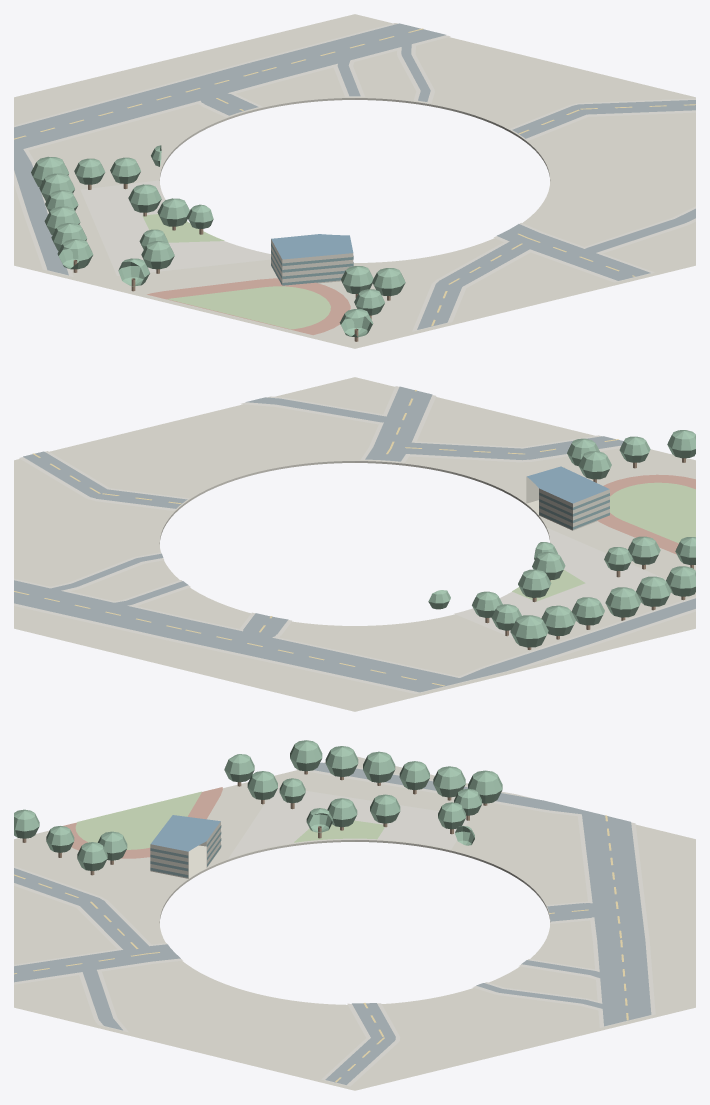
File: surround-X1.glb
3 renders of one model, top to bottom at view 1: azimuth 30°, elevation 25°; view 2: azimuth 150°, elevation 25°; view 3: azimuth 270°, elevation 25°, orthographic.
Parts seen in each view (by area): view 1: X1_ground, X1_road, X1_paving, X1_leafdark, X1_lawn, X1_trackred, X1_solar, X1_ivory, X1_glass, X1_yellow; view 2: X1_ground, X1_road, X1_paving, X1_leafdark, X1_lawn, X1_ivory, X1_trackred, X1_solar, X1_glass, X1_yellow; view 3: X1_ground, X1_road, X1_paving, X1_leafdark, X1_lawn, X1_solar, X1_ivory, X1_trackred, X1_yellow, X1_glass.
Part boxes in pixels (bbox=[...]): X1_ground: bbox=[14, 14, 695, 348]; X1_road: bbox=[14, 23, 695, 329]; X1_paving: bbox=[14, 23, 695, 331]; X1_leafdark: bbox=[31, 145, 405, 337]; X1_lawn: bbox=[142, 214, 330, 329]; X1_trackred: bbox=[147, 278, 350, 335]; X1_solar: bbox=[271, 234, 353, 259]; X1_ivory: bbox=[271, 239, 353, 284]; X1_glass: bbox=[271, 243, 353, 285]; X1_yellow: bbox=[14, 28, 695, 326]; X1_ground: bbox=[14, 377, 695, 711]; X1_road: bbox=[14, 386, 695, 692]; X1_paving: bbox=[14, 386, 695, 693]; X1_leafdark: bbox=[428, 430, 695, 647]; X1_lawn: bbox=[512, 482, 695, 601]; X1_ivory: bbox=[526, 476, 609, 530]; X1_trackred: bbox=[597, 474, 695, 554]; X1_solar: bbox=[527, 466, 609, 503]; X1_glass: bbox=[539, 492, 609, 529]; X1_yellow: bbox=[14, 390, 618, 686]; X1_ground: bbox=[14, 756, 695, 1090]; X1_road: bbox=[14, 762, 651, 1084]; X1_paving: bbox=[14, 762, 655, 1086]; X1_leafdark: bbox=[14, 740, 502, 871]; X1_lawn: bbox=[75, 791, 384, 849]; X1_solar: bbox=[151, 815, 220, 851]; X1_ivory: bbox=[150, 821, 220, 878]; X1_trackred: bbox=[63, 787, 222, 858]; X1_yellow: bbox=[14, 815, 628, 1082]; X1_glass: bbox=[150, 825, 221, 877].
Bounding box in the file's own units: 16.16 × 0.8048 × 14.
